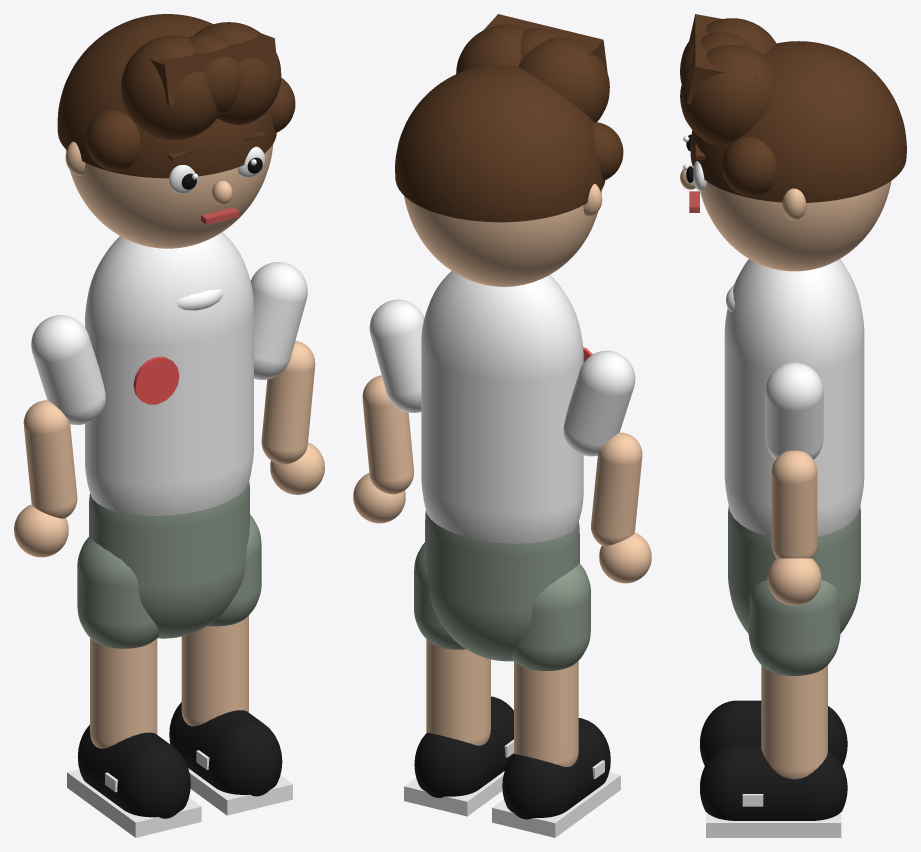
File: manuel.glb
3 views of the same model, side by side, from view 1: azimuth 30°, elevation 25°; view 2: azimuth 150°, elevation 25°; view 3: azimuth 270°, elevation 25° (orthographic). The views are drawn at different scales.
Parts seen in each view (by area): view 1: torso, head, legL, legR, armL, armR; view 2: torso, head, legL, legR, armL, armR; view 3: head, torso, legR, armR, legL.
Part boxes in pixels (x1,y1,x2,y2): torso: [77, 232, 261, 648]; head: [57, 14, 295, 248]; legL: [67, 638, 201, 837]; legR: [169, 615, 292, 815]; armL: [14, 315, 105, 557]; armR: [251, 262, 324, 494]; torso: [414, 271, 592, 670]; head: [395, 14, 623, 286]; legL: [492, 661, 620, 837]; legR: [404, 639, 514, 816]; armL: [563, 350, 651, 583]; armR: [353, 299, 424, 523]; head: [680, 14, 906, 271]; torso: [724, 259, 864, 675]; legR: [700, 665, 847, 837]; armR: [765, 362, 823, 605]; legL: [700, 700, 847, 765].
Size of the model in its own units: 1.16 by 2.86 by 0.763.
